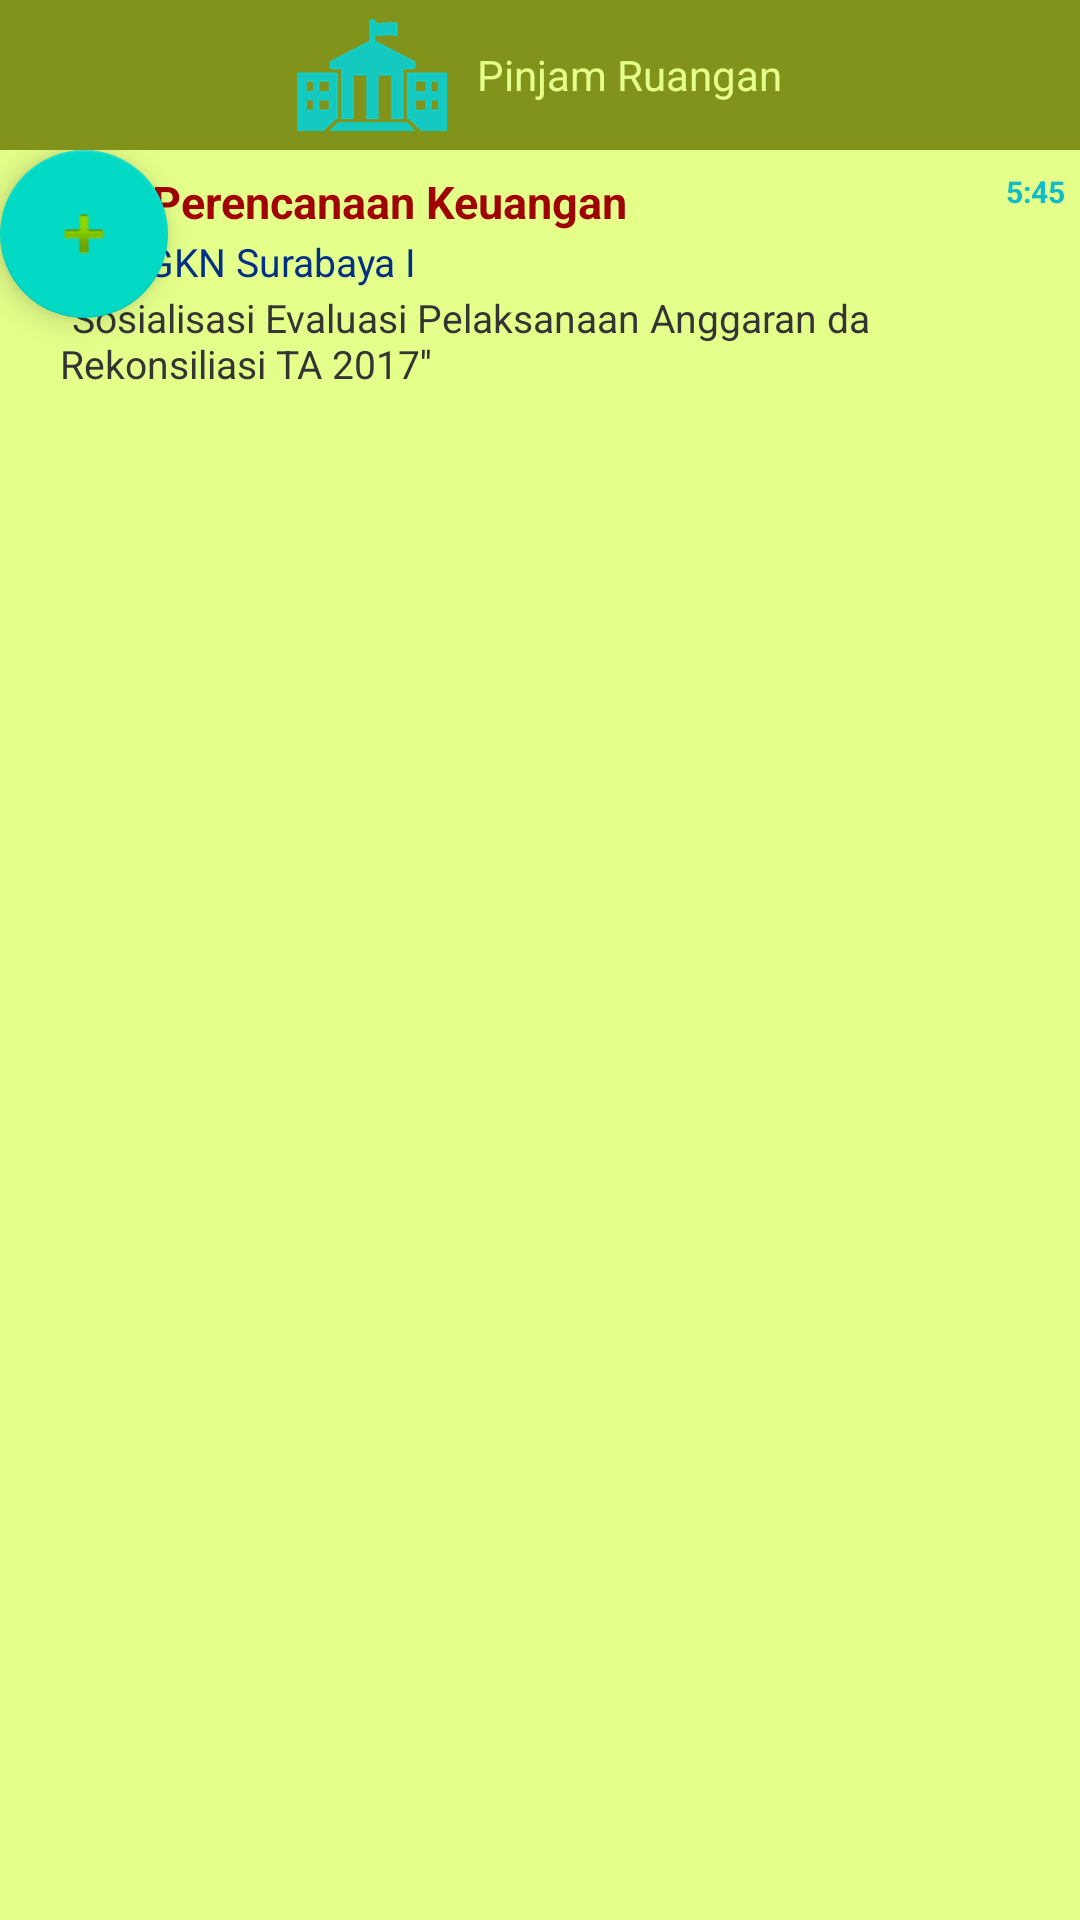

Point at icon controls on the screen. Image size 1080*1920, points as (x,y).
add: (84,234)
